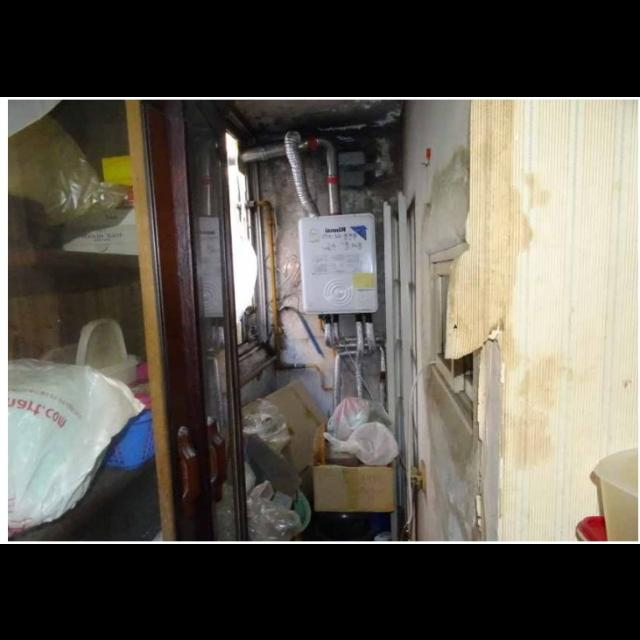Boiler: (290, 204, 390, 336)
